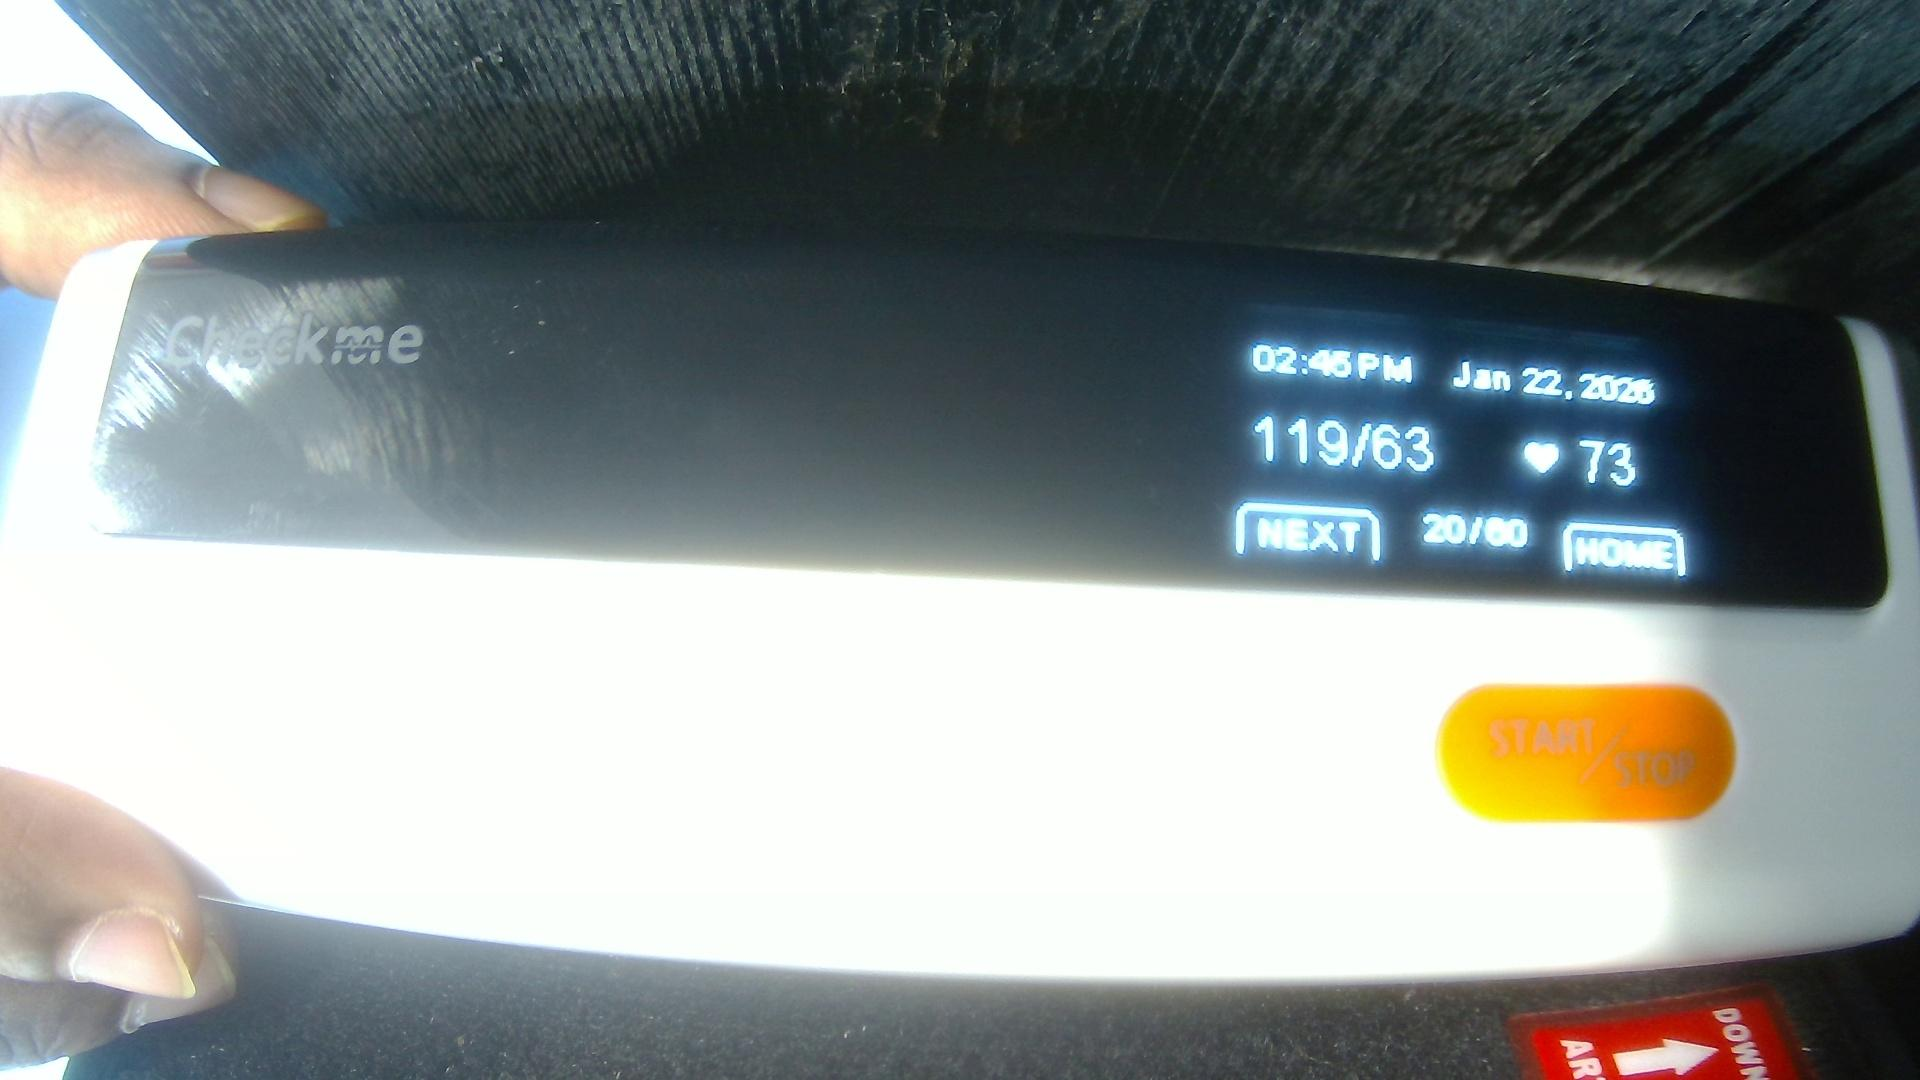DISPLAY: (115, 241, 1875, 608)
